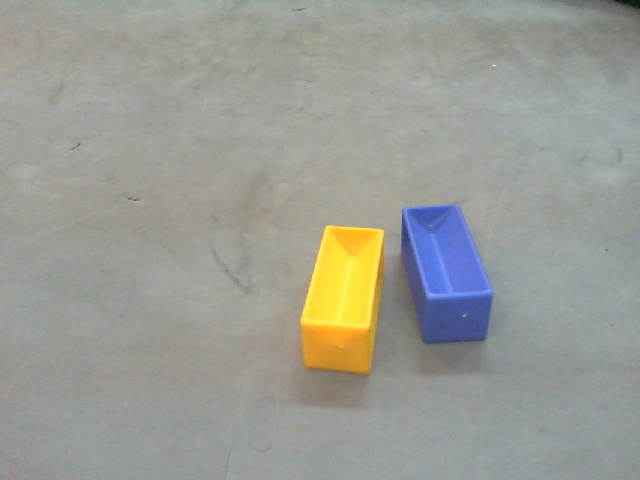BlueSample: (398, 204, 495, 343)
YellowSample: (298, 222, 385, 376)
